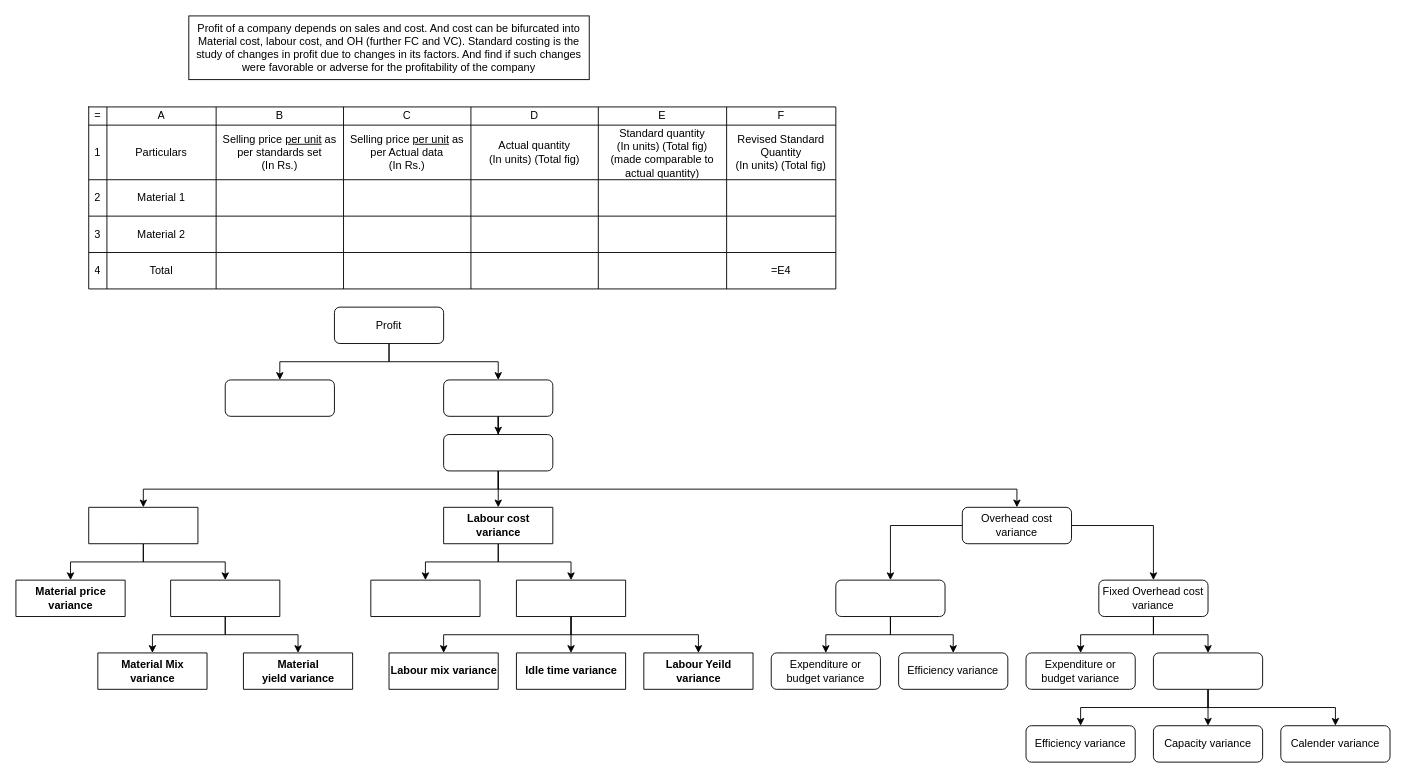
This 1406x778 diagram has some shape labels left out. The shapes that lost their labels are listed below. From the top down, each one's box as (x1, y1, x2, y2) in pixels, then its label:
(224, 379, 334, 416): Sales
(443, 379, 553, 416): Cost
(443, 434, 553, 471): Total cost variance
(88, 506, 198, 544): Material cost variance
(170, 579, 280, 617): Material Usage variance
(370, 579, 480, 617): Labour Rate variance
(516, 579, 626, 617): Labour Efficiency variance
(835, 579, 945, 617): Variable Overhead cost variance
(1153, 652, 1263, 689): Volume variance
